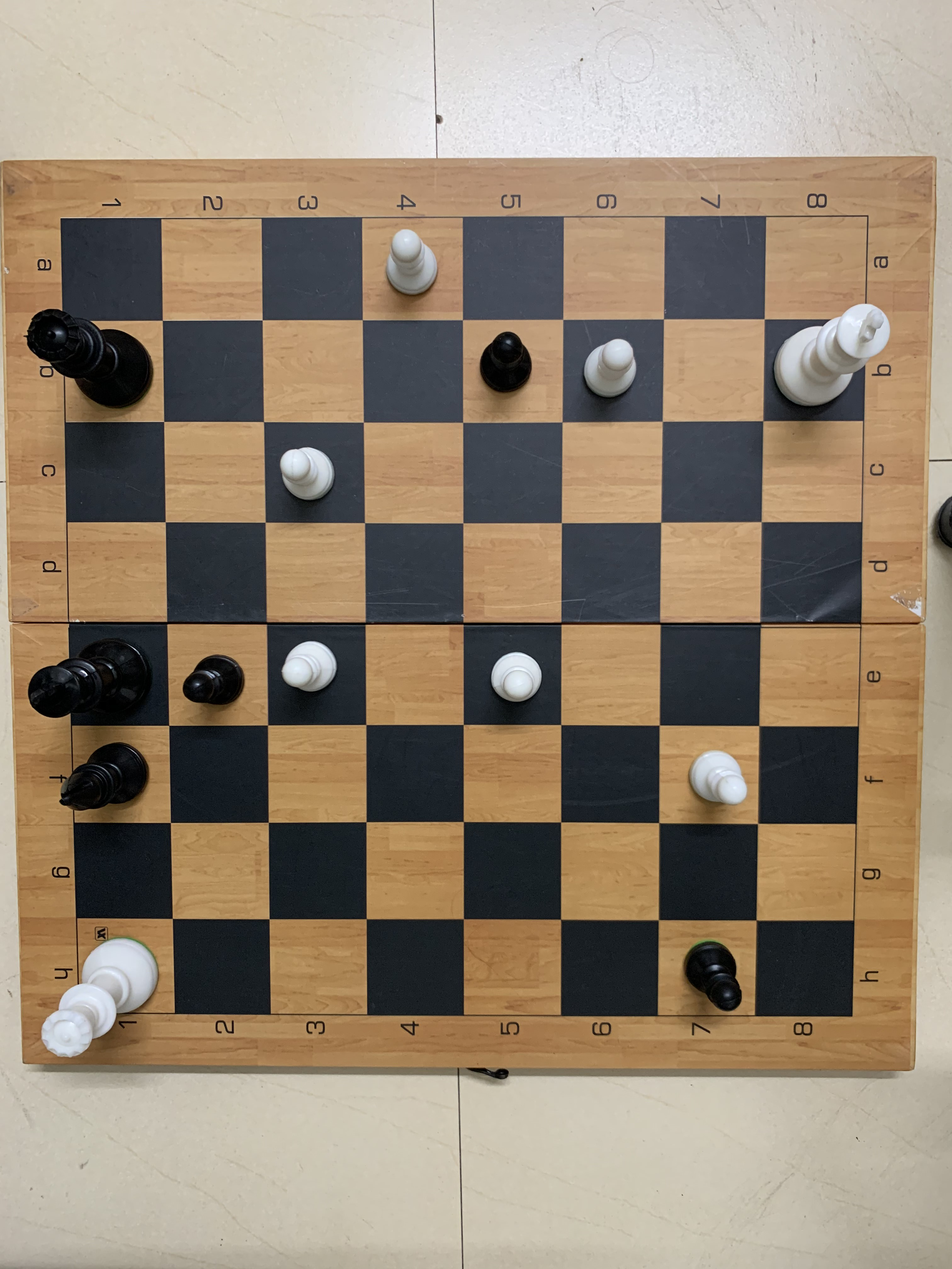black_bishop: (35, 742, 164, 815)
black_king: (24, 623, 162, 737)
black_pawn: (168, 630, 259, 732), (671, 921, 757, 1022), (469, 318, 553, 406)
black_queen: (20, 304, 159, 420)
white_king: (771, 298, 900, 412)
white_pawn: (474, 623, 564, 725), (362, 219, 454, 317), (573, 323, 657, 419), (672, 737, 762, 824), (272, 427, 352, 508), (272, 625, 352, 702)
white_queen: (39, 921, 172, 1065)
